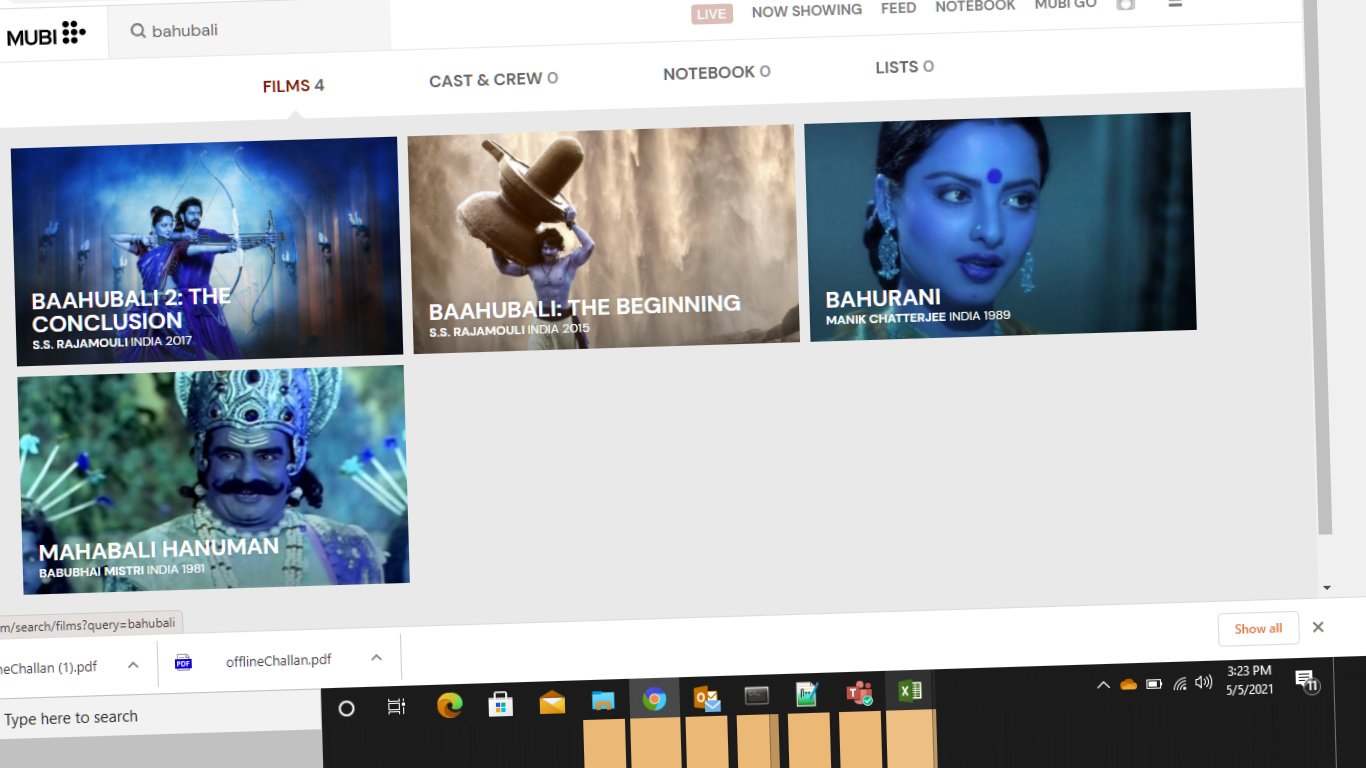searchicon: (126, 12, 153, 42)
searchtextbox: (107, 7, 389, 55)
